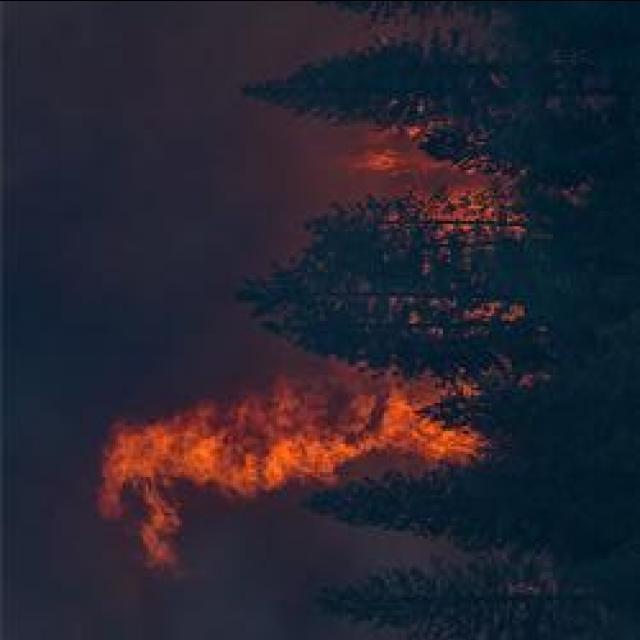fire: (242, 432, 342, 494), (130, 421, 227, 477), (375, 421, 473, 449)
